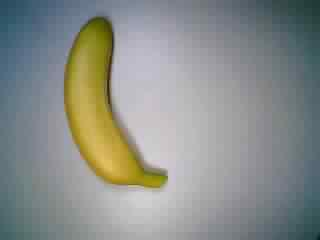banana: (56, 13, 170, 194)
